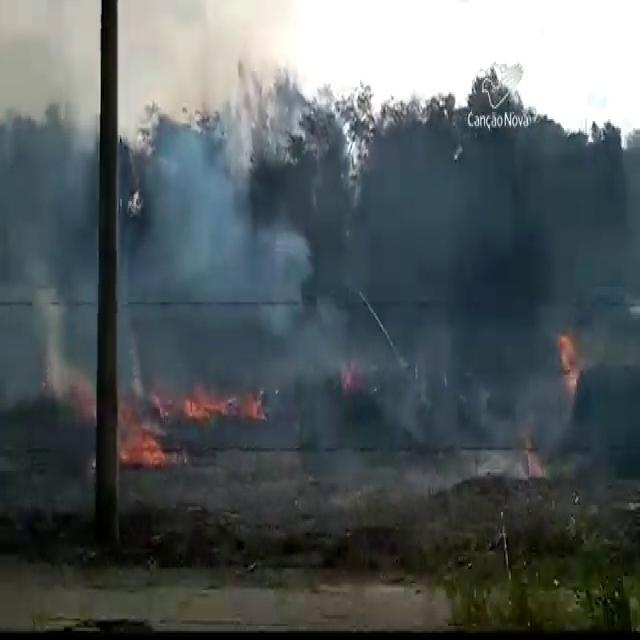Fire: (122, 419, 162, 472), (182, 377, 223, 423), (558, 332, 580, 402)
Smoke: (148, 117, 318, 320), (361, 121, 508, 284), (139, 136, 242, 290), (11, 106, 94, 276), (267, 282, 354, 384), (260, 219, 325, 335), (31, 275, 68, 393), (474, 371, 520, 452), (583, 320, 640, 372), (396, 349, 439, 397), (41, 370, 99, 392), (404, 420, 432, 450)
